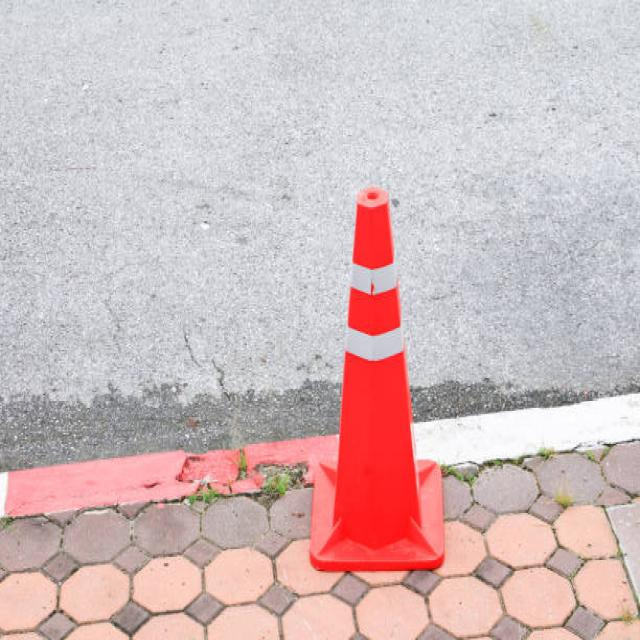Traffic Cone: (297, 153, 458, 589)
